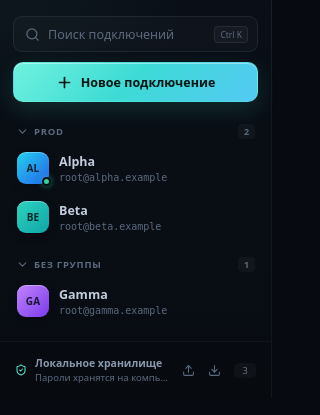
Scenario: Sidebar › схлопывает группы и показывает активность сессий
Expected: the number of elements with class "connection-live-dot" is 1, [42, 177, 51, 186]
Click the button "Prod 2": (136, 130) [9, 116, 262, 144]
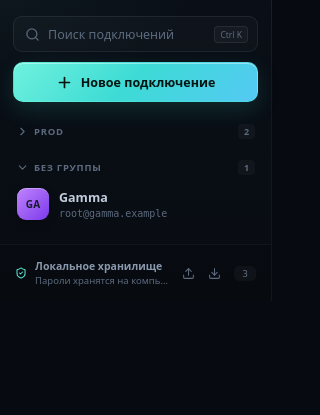
Result: the button "Alpha" is gone
